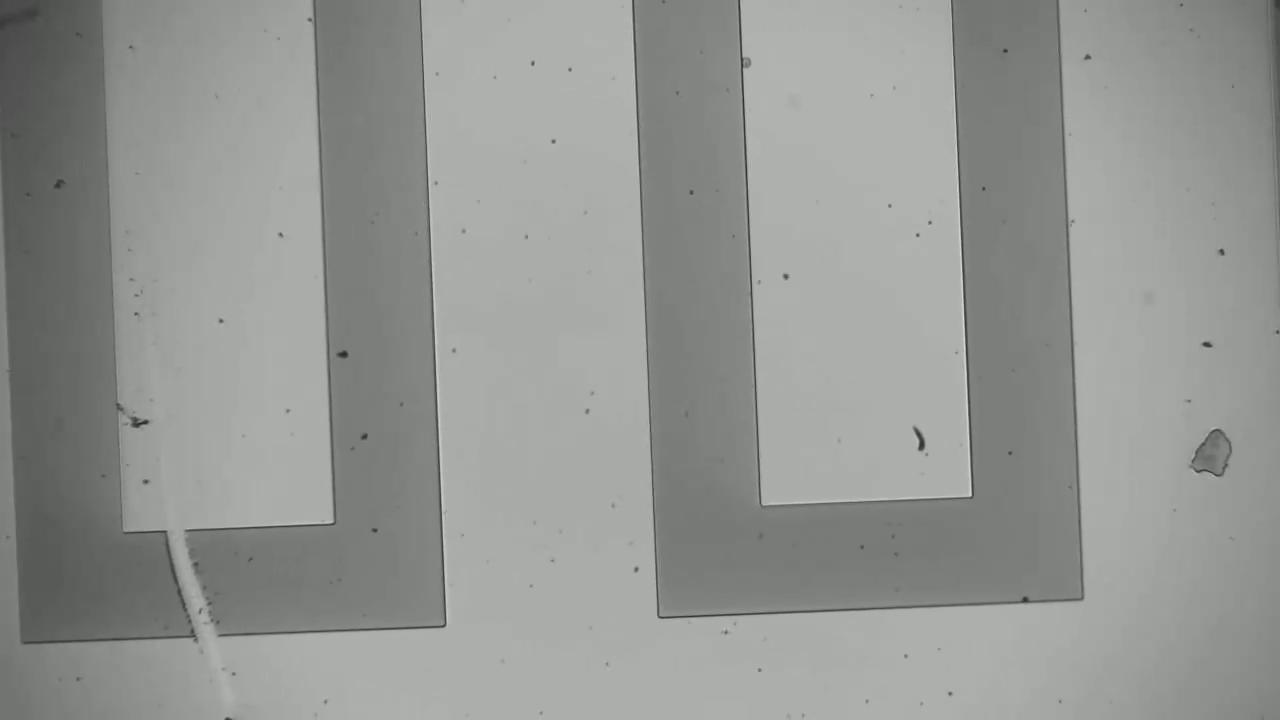Short_circuit: (153, 508, 251, 685)
